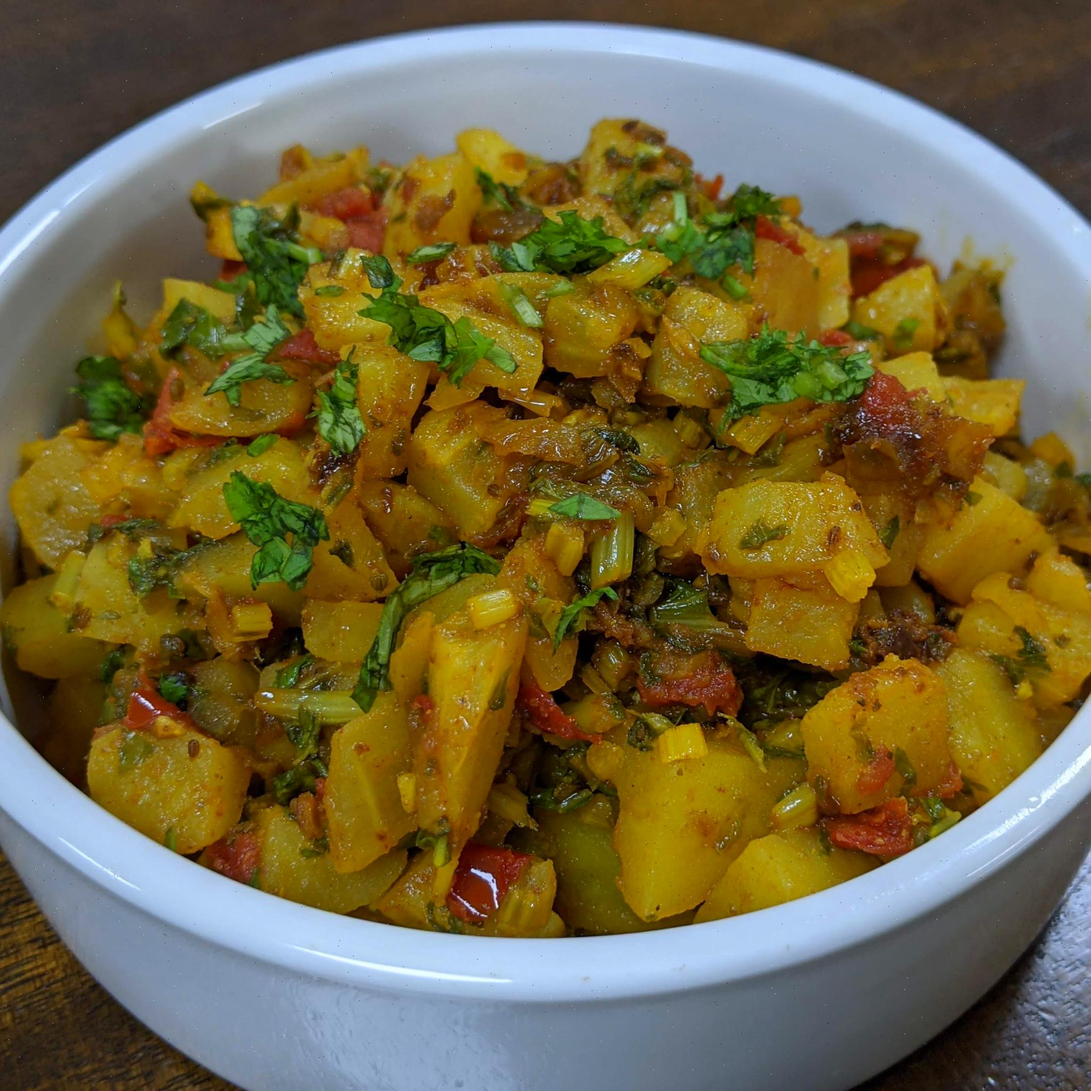aloo sabji: (23, 167, 1088, 842)
